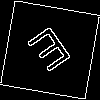E: (25, 25, 79, 82)
